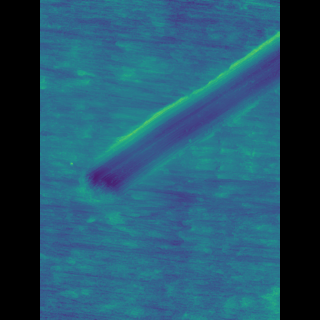Loch: (95, 28, 250, 204)
